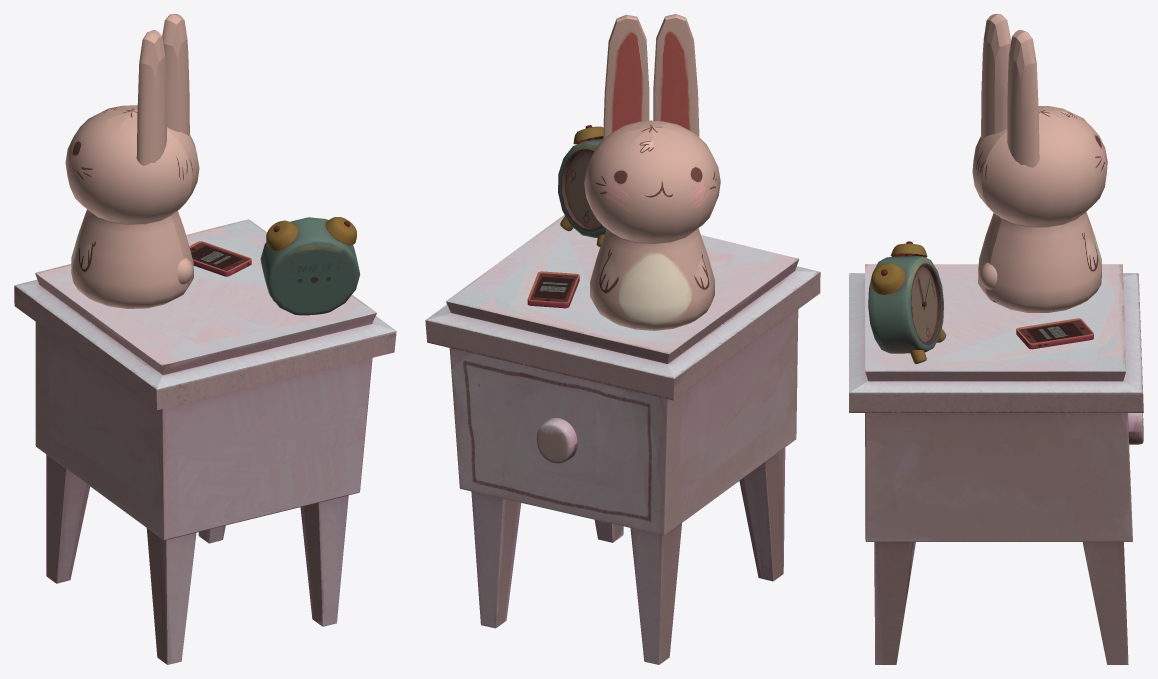
File: nightstand.fbx
3 renders of one model, left to right at view 1: azimuth 30°, elevation 25°; view 2: azimuth 150°, elevation 25°; view 3: azimuth 270°, elevation 25°, orthographic. The views are drawn at different scales.
Parts seen in each view (by area): view 1: tex (87), tex (10), tex (53), tex (65); view 2: tex (87), tex (10), tex (53), tex (65); view 3: tex (87), tex (10), tex (53), tex (65).
Part boxes in pixels (<box>): tex (87): <box>14,219,396,664</box>; tex (10): <box>65,14,199,308</box>; tex (53): <box>260,217,360,315</box>; tex (65): <box>189,241,251,276</box>; tex (87): <box>425,214,820,664</box>; tex (10): <box>584,14,720,330</box>; tex (53): <box>558,125,606,246</box>; tex (65): <box>527,271,579,308</box>; tex (87): <box>849,264,1143,664</box>; tex (10): <box>972,14,1107,312</box>; tex (53): <box>868,241,946,364</box>; tex (65): <box>1016,318,1093,349</box>.
Size of the model in its own units: 220 by 507 by 230.
4 materials, 4 textured.
